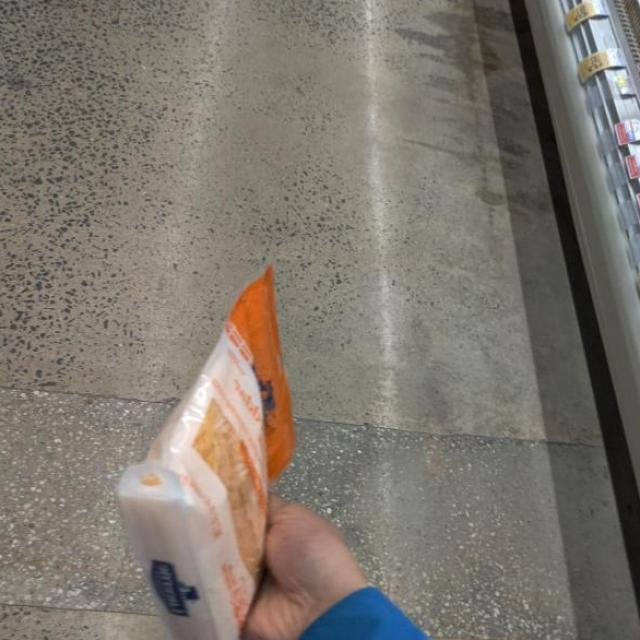Cheese: (117, 280, 306, 640)
